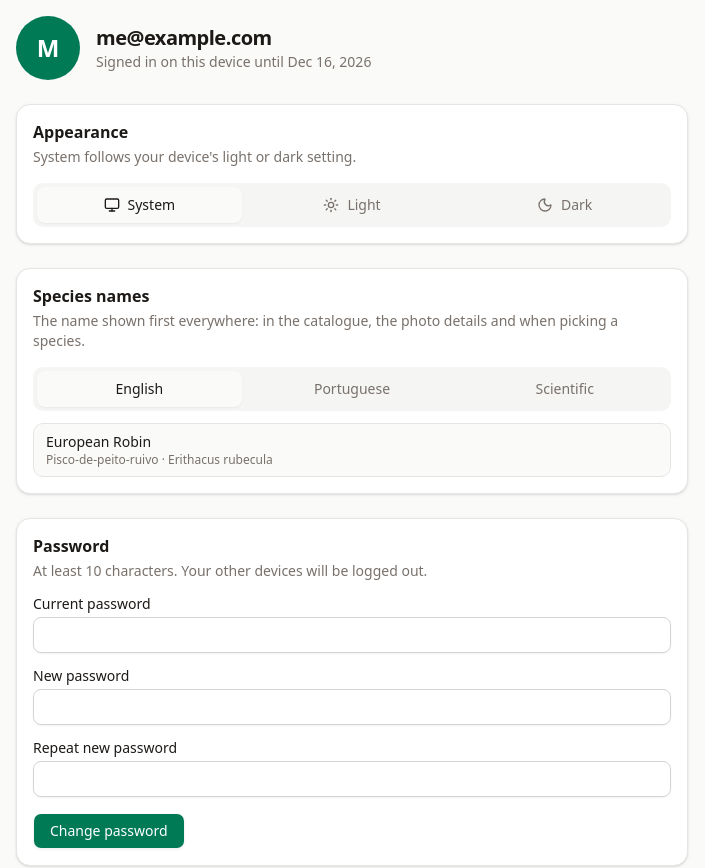
Profile password › shows the reason on a wrong current password
In the password field labelled "Current password": (352, 635) [33,617,671,653], type "old password!"
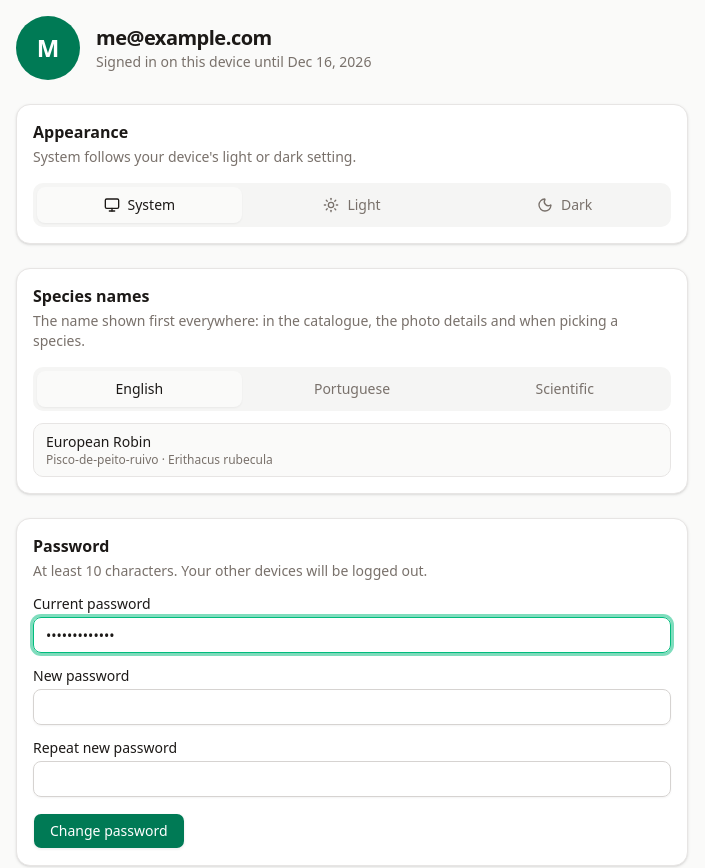
In the password field labelled "New password": (352, 707) [33,689,671,725], type "a new password long enough"
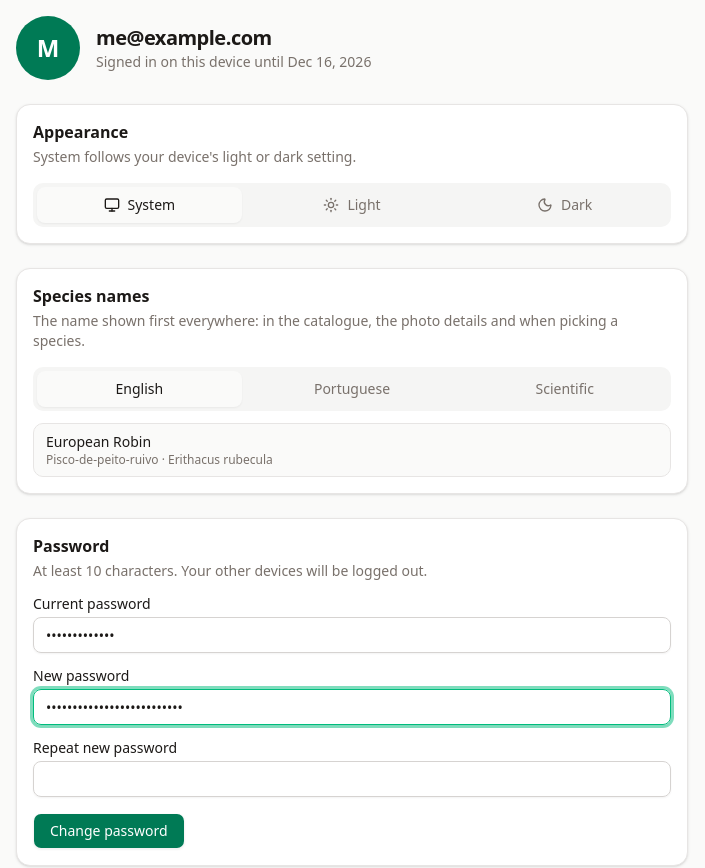
In the password field labelled "Repeat new password": (352, 779) [33,761,671,797], type "a new password long enough"
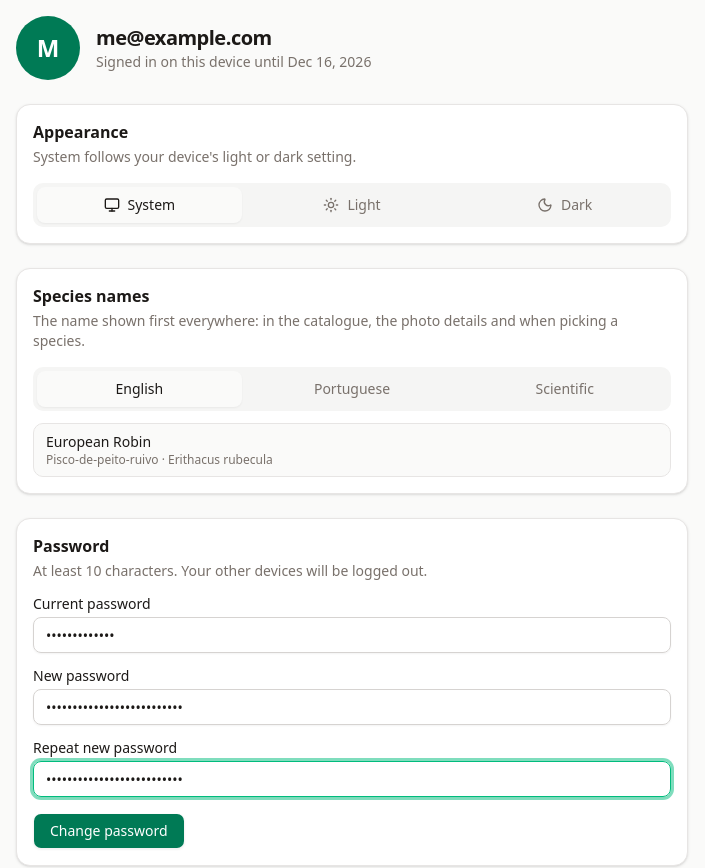
Click the button "Change password": (109, 831) [33,813,185,849]
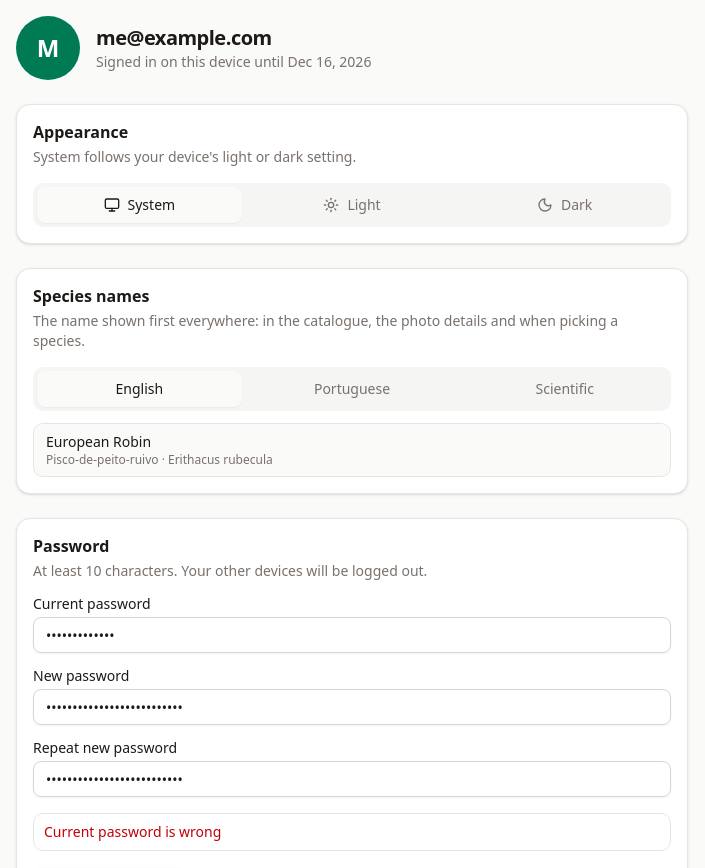
expect the text "Current password is wrong" is shown: met, box [44,822,221,841]
